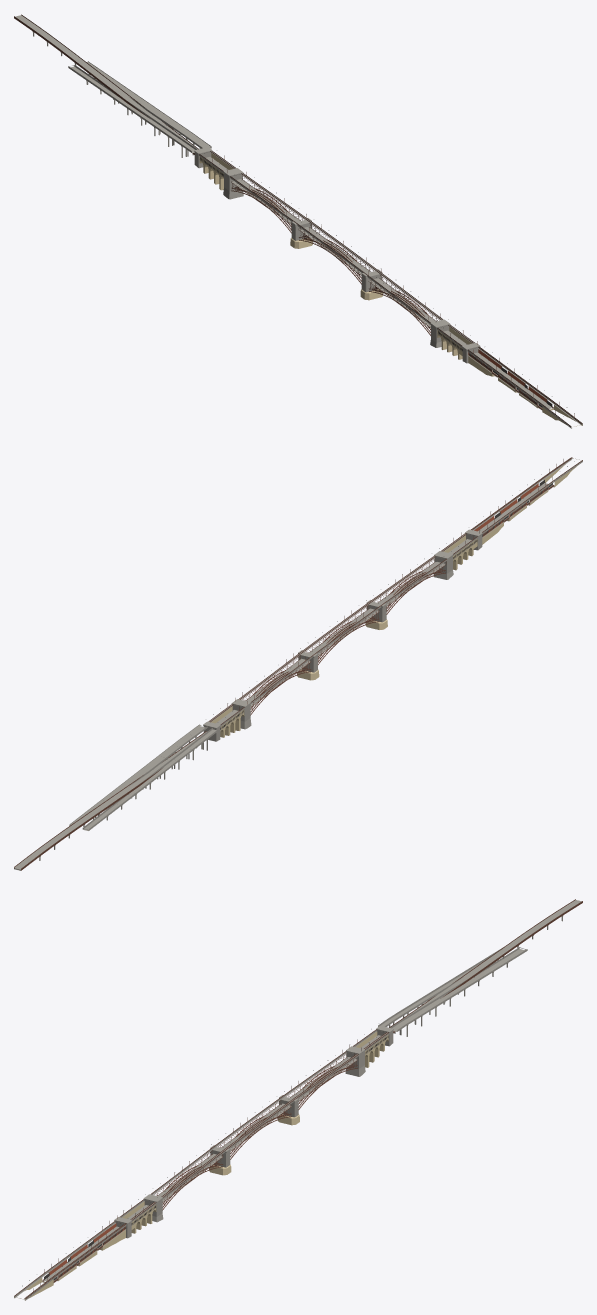
File: stl-eads-bridge.detail.glb
3 views of the same model, one above another, from view 1: azimuth 30°, elevation 25°; view 2: azimuth 150°, elevation 25°; view 3: azimuth 330°, elevation 25° (orthographic). The views are drawn at different scales.
Parts seen in each view (by area): view 1: Eads Bridge; view 2: Eads Bridge; view 3: Eads Bridge.
Boxes of the visible parts, x1,y1,x2,y2 form: Eads Bridge: (14, 14, 582, 428); Eads Bridge: (14, 457, 582, 870); Eads Bridge: (14, 899, 582, 1300).
Size of the model in its own units: 34.05 by 38.94 by 1358.
